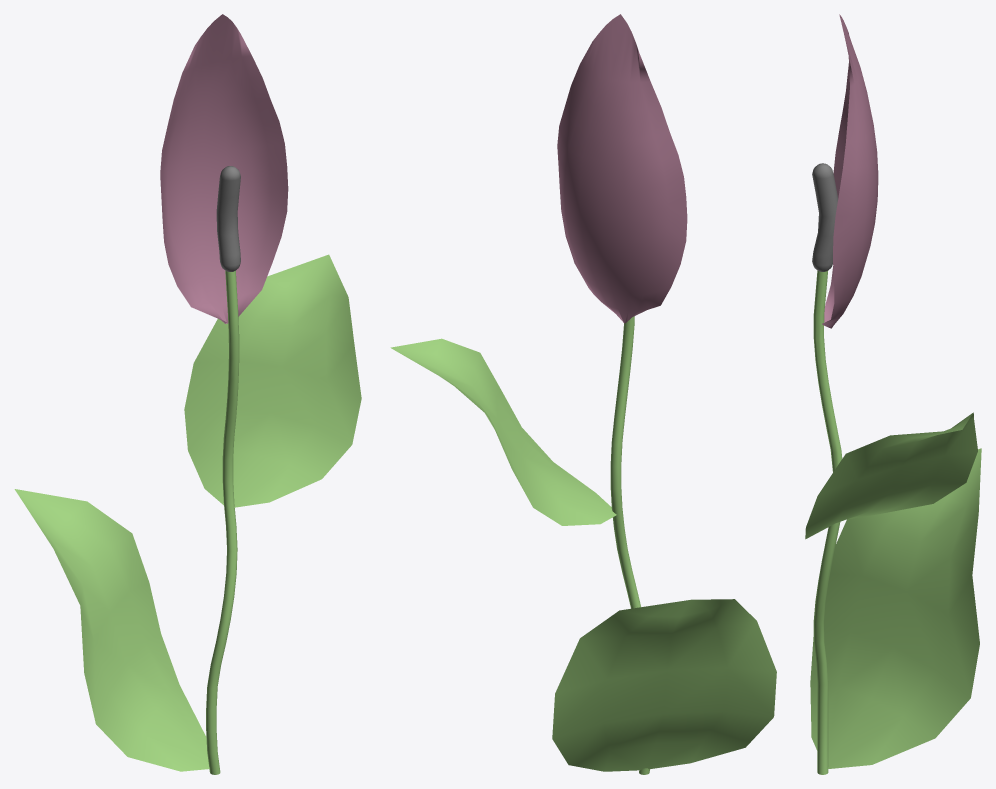
File: SM_Flower01.fbx
3 renders of one model, left to right at view 1: azimuth 30°, elevation 25°; view 2: azimuth 150°, elevation 25°; view 3: azimuth 270°, elevation 25°, orthographic. The views are drawn at different scales.
Parts seen in each view (by area): view 1: SM_Flower01; view 2: SM_Flower01; view 3: SM_Flower01.
Part boxes in pixels (x1,y1,x2,y2): SM_Flower01: (14, 14, 361, 774); SM_Flower01: (390, 14, 776, 774); SM_Flower01: (805, 14, 981, 774).
Size of the model in its own units: 45.12 by 103 by 21.54.
